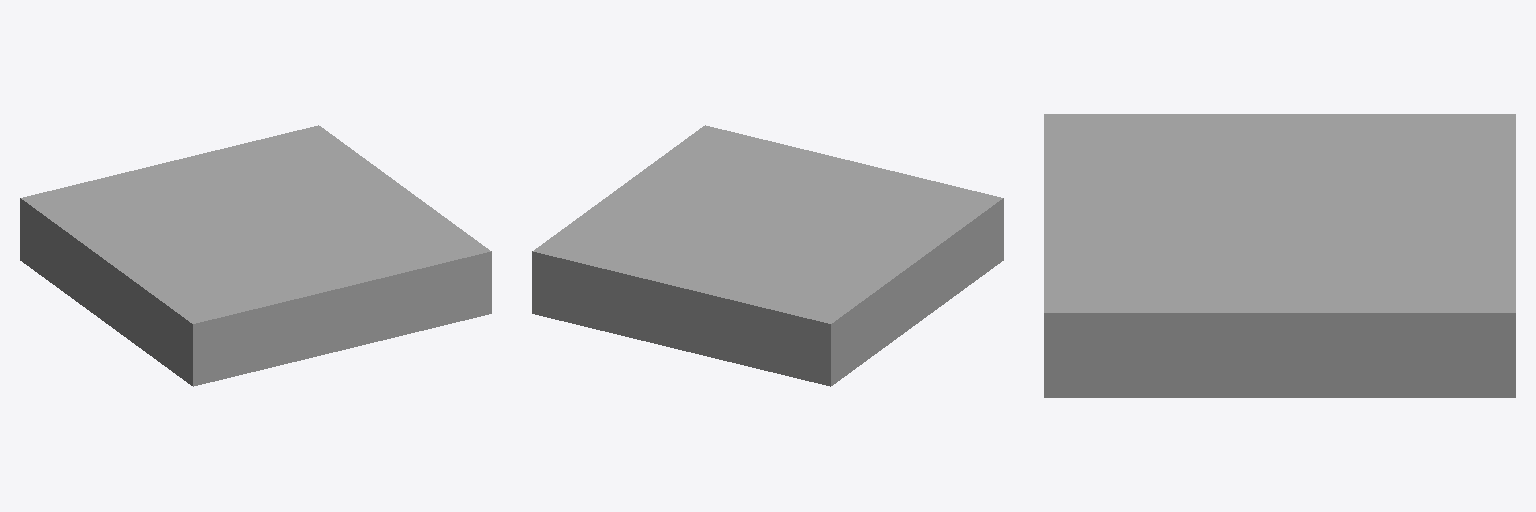
robot.urdf — unknown_target:
<?xml version="1.0"?>
<!--
  unknown_target.urdf — PyBullet URDF for unknown / unclassified targets.

  Mesh source: CesiumGS Box.glb converted to OBJ (Apache 2.0)
  https://github.com/CesiumGS/cesium

  A flattened rectangular marker for unclassified entities, coloured grey.
  Raw mesh extent = 1 × 1 × 1 m.  Scaled to a flat 2.5 × 2.5 × 0.5 m marker.
-->
<robot name="unknown_target">

  <link name="base_link">

    <inertial>
      <mass value="0.0"/>
      <origin xyz="0 0 0" rpy="0 0 0"/>
      <inertia ixx="0" ixy="0" ixz="0" iyy="0" iyz="0" izz="0"/>
    </inertial>

    <visual>
      <!-- Z-offset = half of slab height so the model sits on the ground plane -->
      <origin xyz="0 0 0.25" rpy="0 0 0"/>
      <geometry>
        <mesh filename="../meshes/box.obj" scale="2.5 2.5 0.5"/>
      </geometry>
      <material name="unknown_grey">
        <color rgba="0.7 0.7 0.7 0.85"/>
      </material>
    </visual>

    <collision>
      <origin xyz="0 0 0.25" rpy="0 0 0"/>
      <geometry>
        <box size="2.5 2.5 0.5"/>
      </geometry>
    </collision>

  </link>

</robot>

--- Facts derived from the render (not from the file) ---
3 views of the same robot in one strip: view 1: azimuth 30°, elevation 25°; view 2: azimuth 150°, elevation 25°; view 3: azimuth 270°, elevation 25° (orthographic).
Robot: unknown_target — 1 links, 0 joints (none); root link base_link; default pose: every joint at zero.
Visible links, largest first — view 1: base_link; view 2: base_link; view 3: base_link.
Boxes of the visible links, x1,y1,x2,y2 form: base_link: (20,125,491,386); base_link: (532,125,1003,386); base_link: (1044,114,1515,397).
Size in the robot's own frame: 2.5 by 2.5 by 0.5 metres.
1 mesh visuals loaded from 1 distinct referenced files (1 OBJ).
